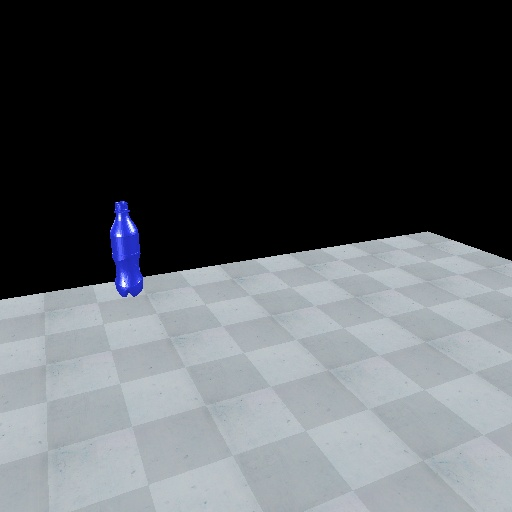bottle: (107, 197, 145, 298)
